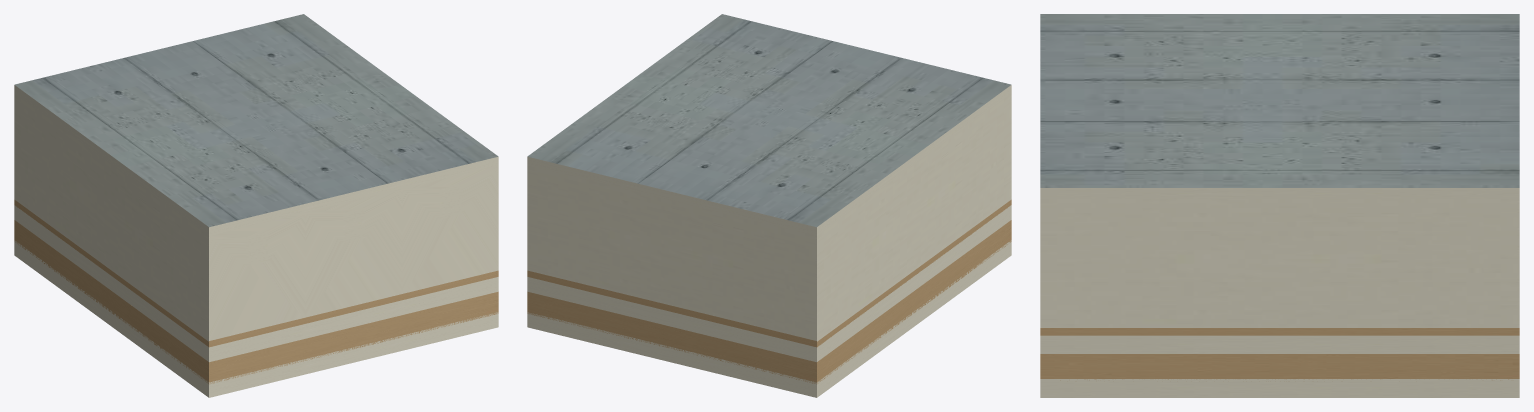
Rendered from Desert building3(04-21).FBX.
3 renders of one model, left to right at view 1: azimuth 30°, elevation 25°; view 2: azimuth 150°, elevation 25°; view 3: azimuth 270°, elevation 25°, orthographic. The views are drawn at different scales.
Visible parts, largest first — view 1: Object015; view 2: Object015; view 3: Object015.
Boxes of the visible parts, x1=… form: Object015: x1=14, y1=14, x2=498, y2=397; Object015: x1=527, y1=14, x2=1011, y2=397; Object015: x1=1040, y1=14, x2=1519, y2=397.
Bounding box in the file's own units: 541 × 305 × 630.
